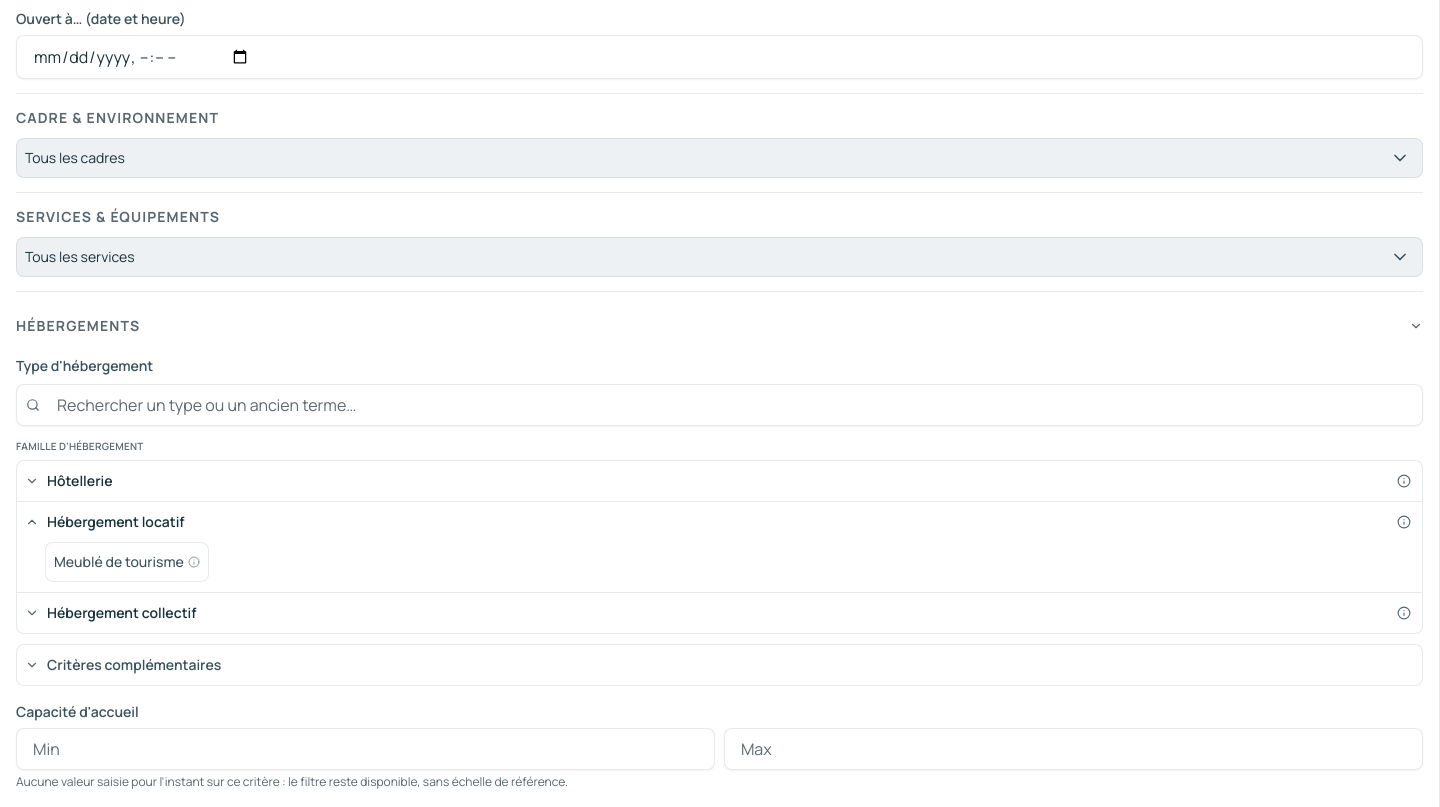
FiltersPanel — sections type-spécifiques repliables › retrouve les anciens termes Berta sans les afficher comme second libellé
This screenshot has width=1440, height=807.
(page scrolled)
Step 1. Type "Gîte de randonnée" into the field named "Rechercher un type d'hébergement" → (720, 405), box [16, 384, 1423, 426]
(page scrolled)
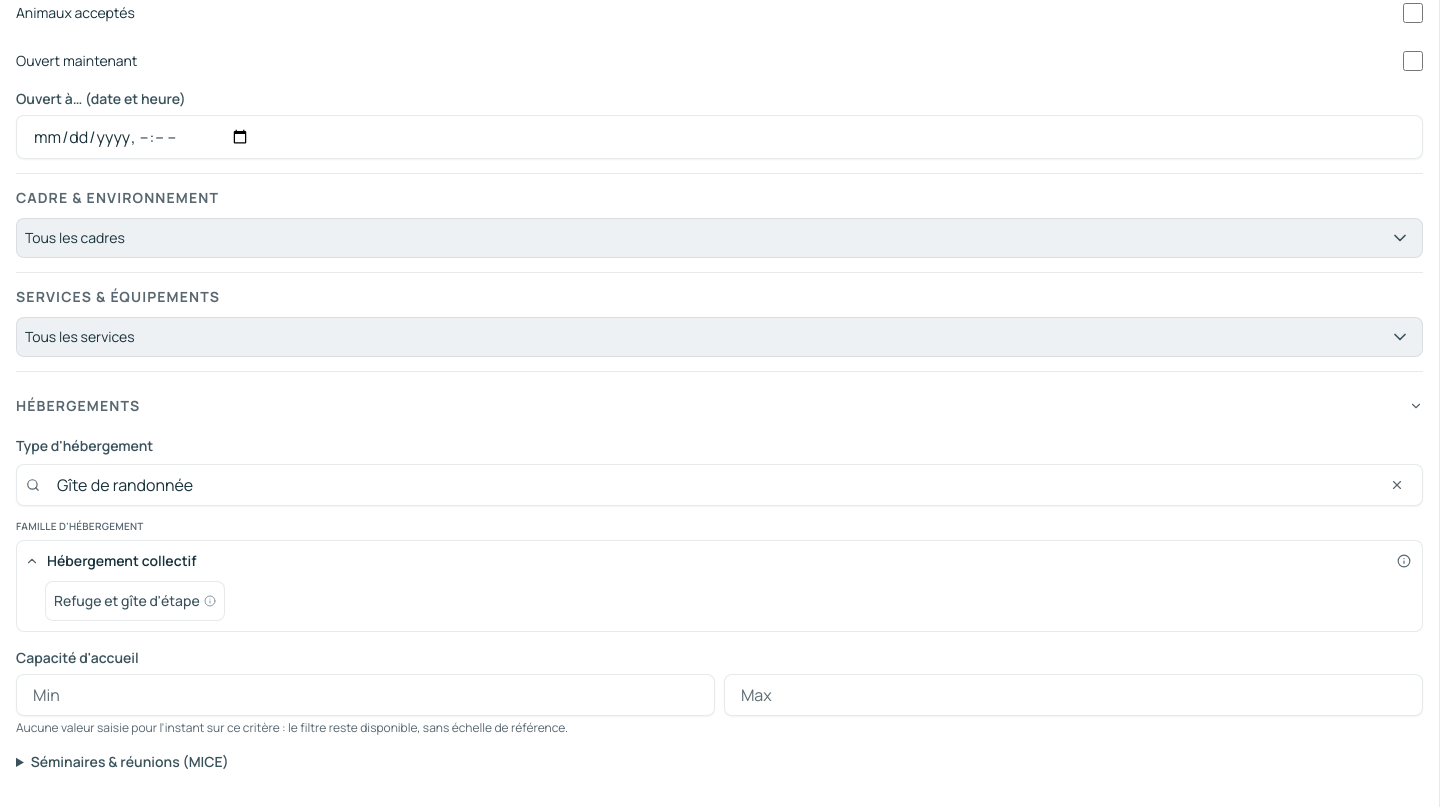
Expected: the button "Refuge et gîte d'étape" is shown, [45, 581, 225, 621]
Expected: the button named "Effacer la recherche d'hébergement" is shown, [1377, 465, 1417, 505]
